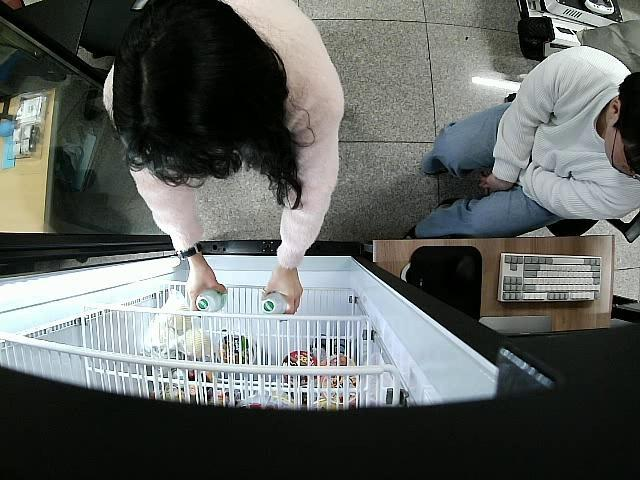18_trevi: (197, 284, 228, 312), (262, 290, 288, 315)
